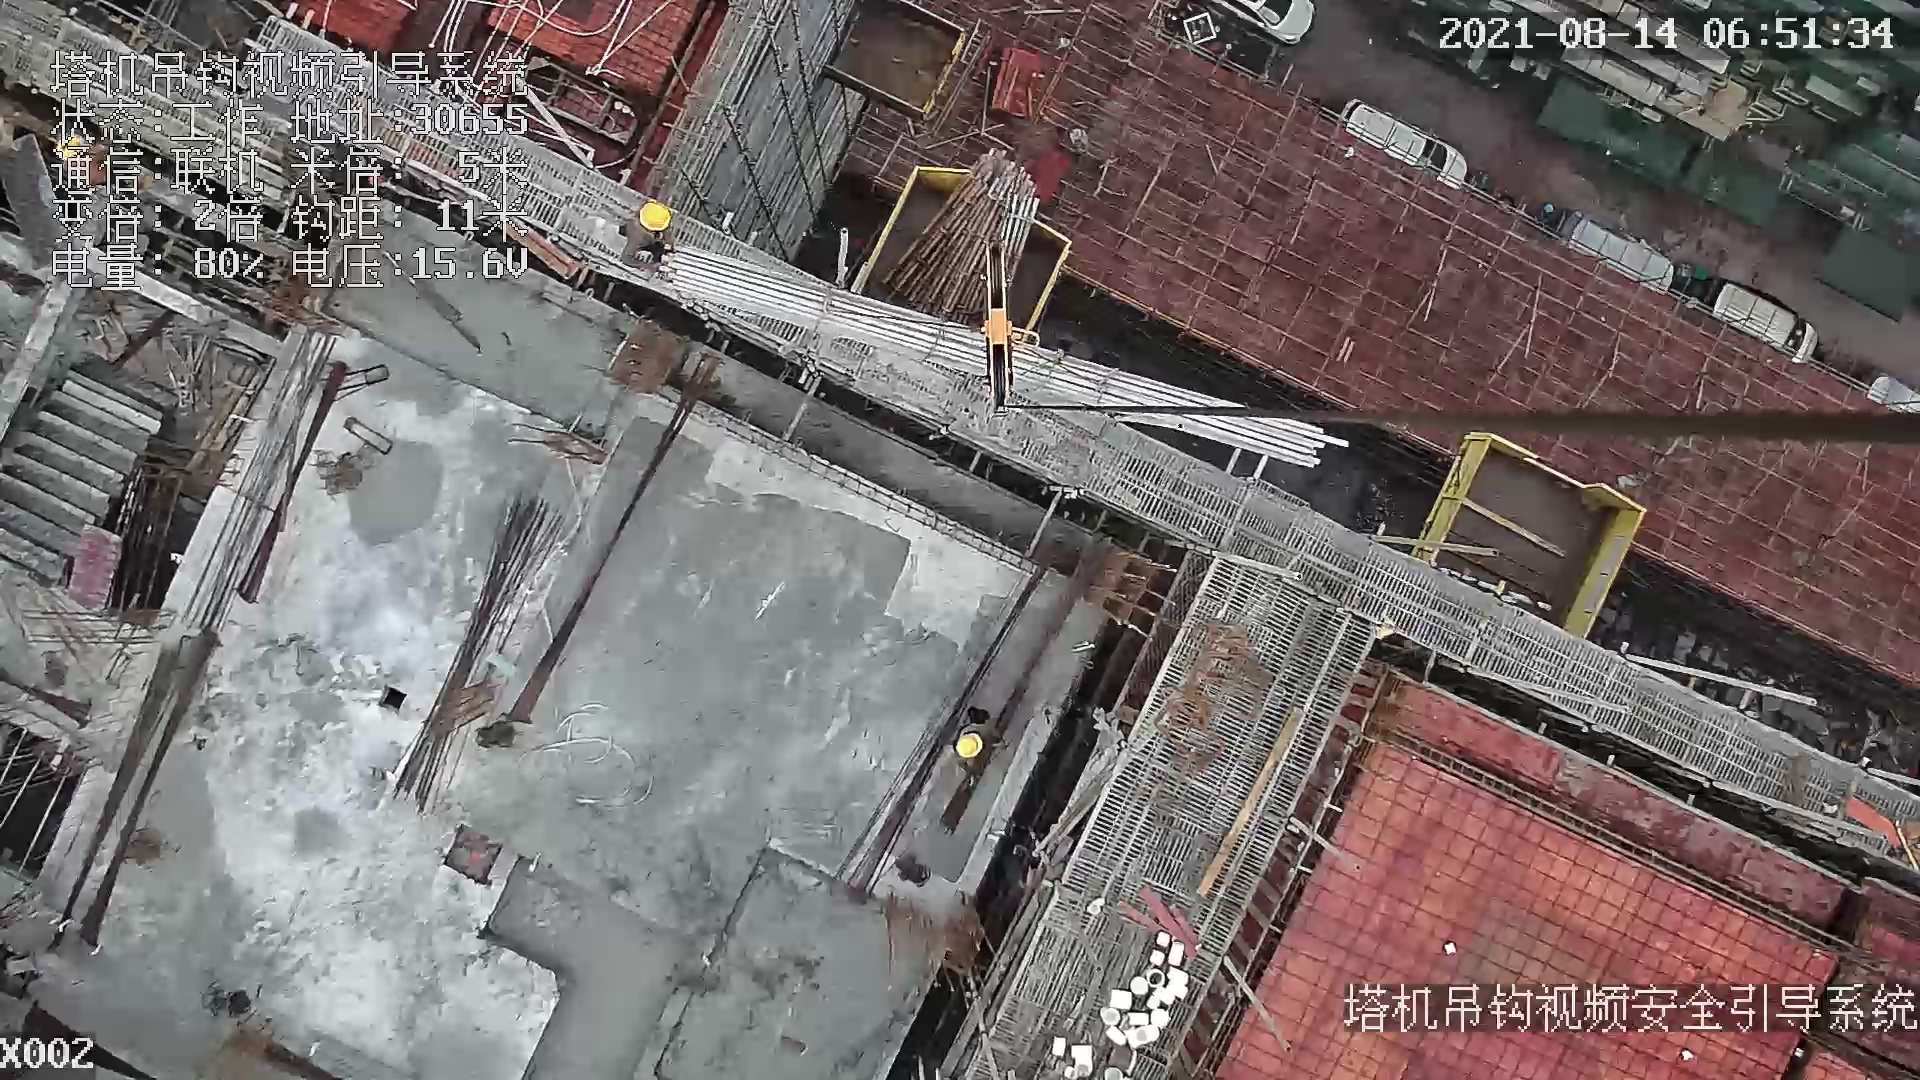helmet: (639, 200, 670, 231), (955, 731, 982, 761)
hook: (978, 233, 1054, 426)
person: (603, 192, 678, 273), (936, 699, 1013, 776)
rebar: (666, 250, 1346, 476), (383, 493, 559, 814)
scaffold: (882, 147, 1036, 323)
